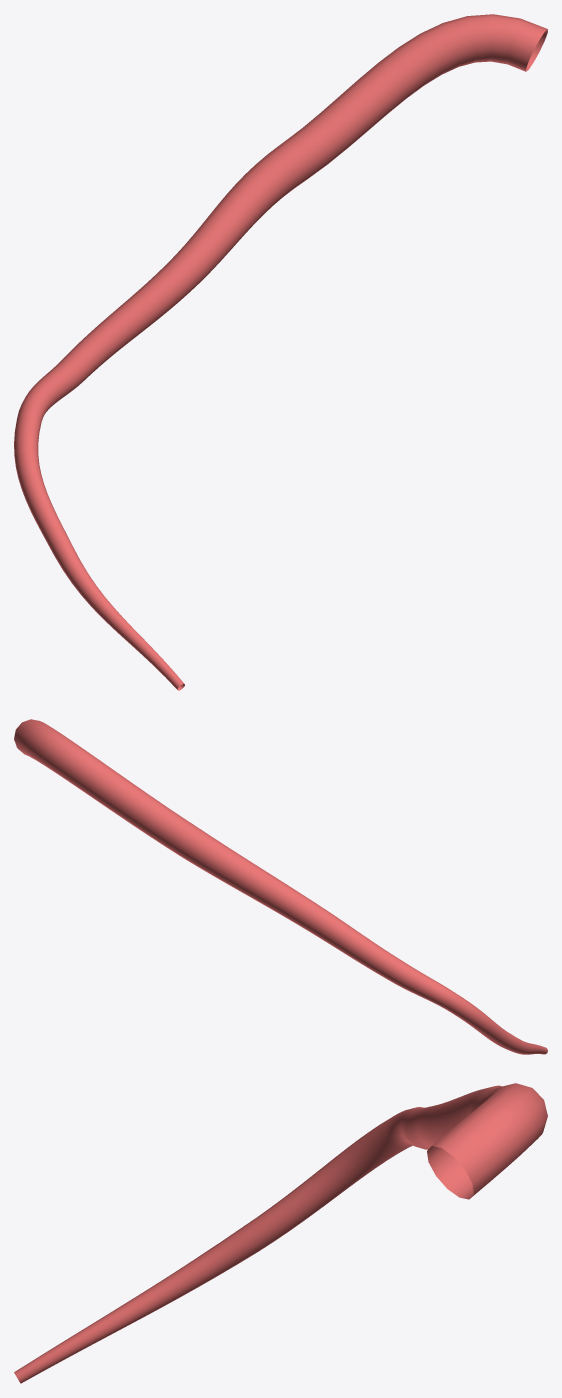
Rendered from Superior_lateral_genicular_artery.r_BezierCurve.258.glb.
3 renders of one model, top to bottom at view 1: azimuth 30°, elevation 25°; view 2: azimuth 150°, elevation 25°; view 3: azimuth 270°, elevation 25°, orthographic. The views are drawn at different scales.
Visible parts, largest first — view 1: Superior_lateral_genicular_artery.r_BezierCurve.258; view 2: Superior_lateral_genicular_artery.r_BezierCurve.258; view 3: Superior_lateral_genicular_artery.r_BezierCurve.258.
Boxes of the visible parts, bbox=[...] form: Superior_lateral_genicular_artery.r_BezierCurve.258: bbox=[14, 14, 547, 690]; Superior_lateral_genicular_artery.r_BezierCurve.258: bbox=[14, 719, 547, 1054]; Superior_lateral_genicular_artery.r_BezierCurve.258: bbox=[14, 1083, 547, 1383].
Size of the model in its own units: 0.0688 by 0.0496 by 0.04.
